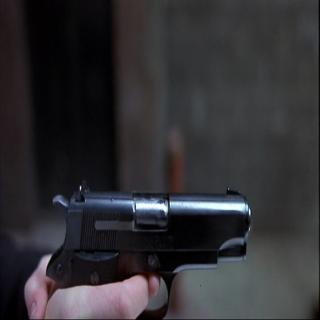gun: (36, 171, 256, 320)
